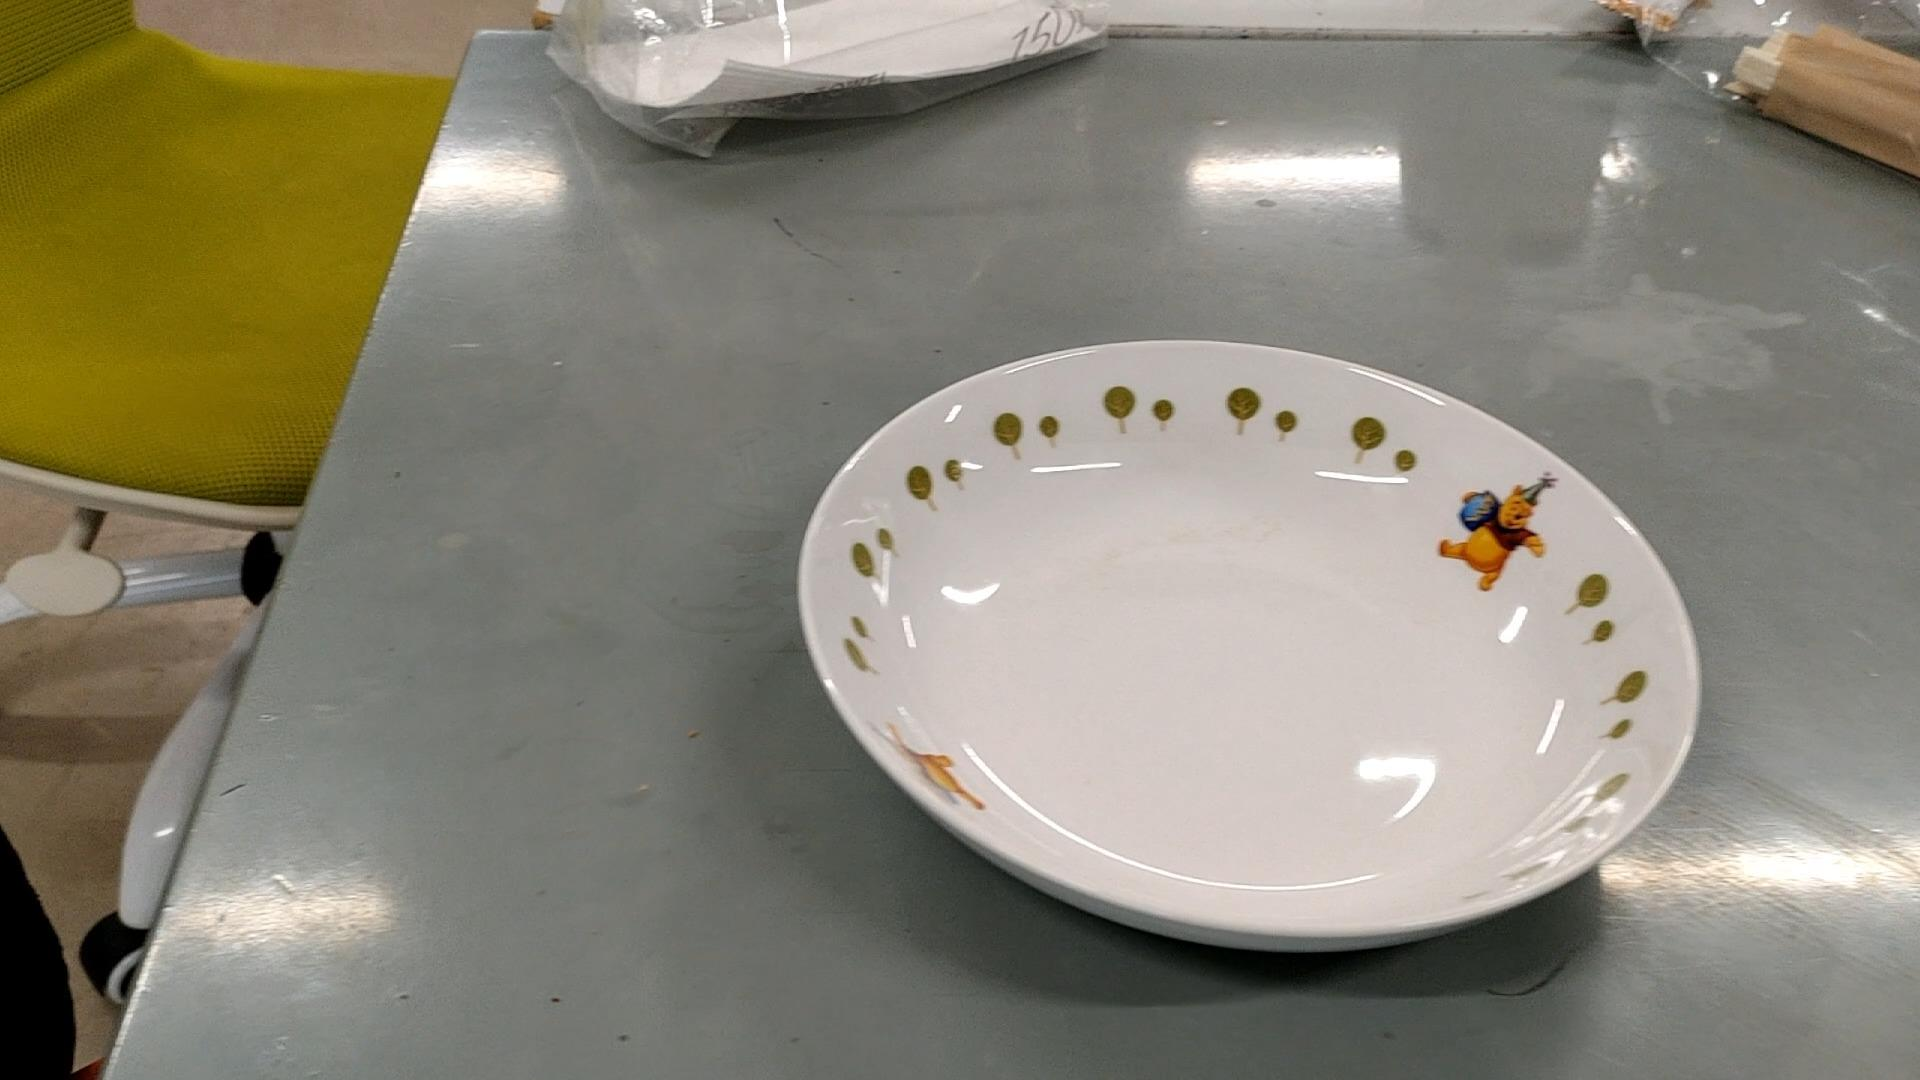plate: (800, 335, 1708, 952)
